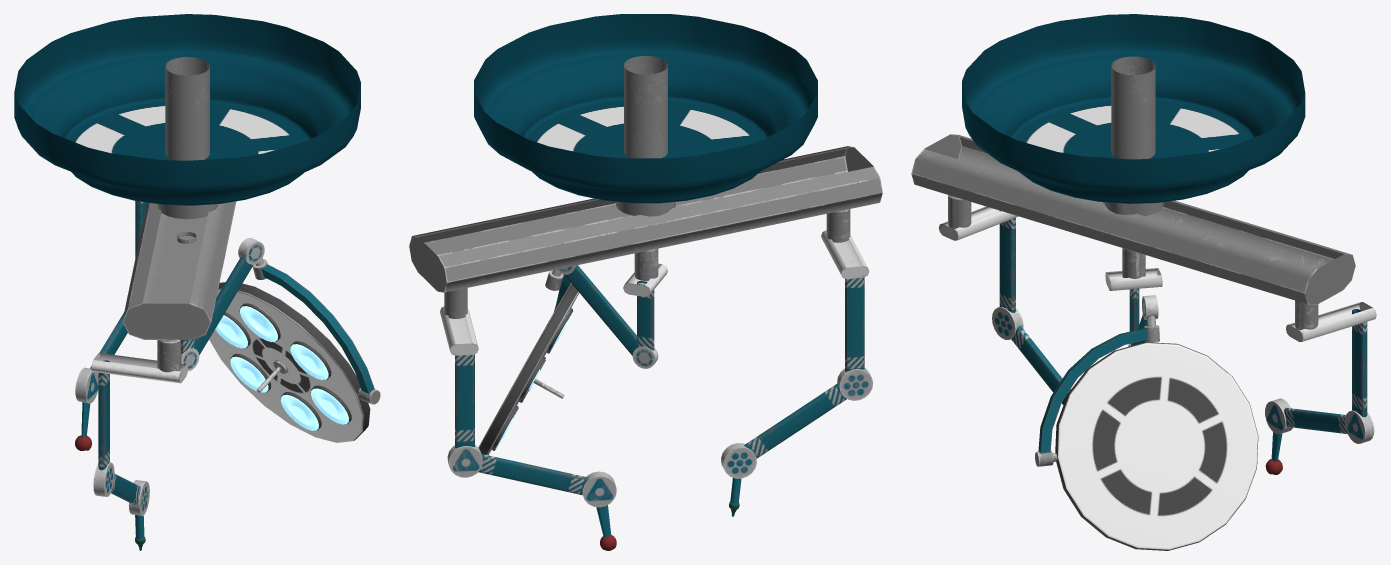
The model's file is BrazosV7.fbx.
3 views of the same model, side by side, from view 1: azimuth 30°, elevation 25°; view 2: azimuth 150°, elevation 25°; view 3: azimuth 270°, elevation 25° (orthographic).
Parts seen in each view (by area): view 1: Top, RotacionMid, Luces, Brazo02_right, Brazo00_mid, Brazo01_mid, Brazo00_left, Brazo01_right, Brazo00_right, Brazotuerca01_mid, Brazo01_left; view 2: Top, RotacionMid, Brazo02_right, Brazo02_left, Luces, Brazo01_right, Brazo01_left, Brazo03_mid, Brazo01_mid, Brazo00_left, Brazo00_right; view 3: Top, Luces, RotacionMid, Brazo02_left, Brazo02_right, Brazo00_mid, Brazo03_mid, Brazo01_left, Brazo01_right, Brazo00_left.
Part boxes in pixels (bbox=[...]): Top: bbox=[14, 14, 360, 205]; RotacionMid: bbox=[122, 57, 236, 340]; Luces: bbox=[209, 282, 380, 442]; Brazo02_right: bbox=[91, 340, 187, 470]; Brazo00_mid: bbox=[252, 258, 374, 393]; Brazo01_mid: bbox=[181, 256, 253, 371]; Brazo00_left: bbox=[75, 367, 98, 450]; Brazo01_right: bbox=[93, 462, 140, 504]; Brazo00_right: bbox=[128, 480, 149, 550]; Brazotuerca01_mid: bbox=[238, 238, 264, 264]; Brazo01_left: bbox=[90, 312, 127, 368]; Top: bbox=[474, 14, 817, 203]; RotacionMid: bbox=[409, 56, 882, 292]; Brazo02_right: bbox=[821, 209, 869, 371]; Brazo02_left: bbox=[440, 288, 478, 448]; Luces: bbox=[478, 283, 579, 455]; Brazo01_right: bbox=[744, 368, 873, 458]; Brazo01_left: bbox=[447, 445, 588, 495]; Brazo03_mid: bbox=[623, 248, 667, 350]; Brazo01_mid: bbox=[564, 265, 658, 368]; Brazo00_left: bbox=[582, 471, 616, 550]; Brazo00_right: bbox=[721, 443, 756, 516]; Top: bbox=[962, 14, 1305, 203]; Luces: bbox=[1035, 342, 1258, 550]; RotacionMid: bbox=[911, 56, 1355, 304]; Brazo02_left: bbox=[1286, 300, 1376, 417]; Brazo02_right: bbox=[939, 195, 1018, 312]; Brazo00_mid: bbox=[1038, 315, 1159, 453]; Brazo03_mid: bbox=[1105, 248, 1162, 345]; Brazo01_left: bbox=[1284, 407, 1374, 443]; Brazo01_right: bbox=[992, 307, 1070, 404]; Brazo00_left: bbox=[1265, 398, 1292, 474].
Size of the model in its own units: 134 by 180 by 169.
Materials: 5 (5 with a texture image).
